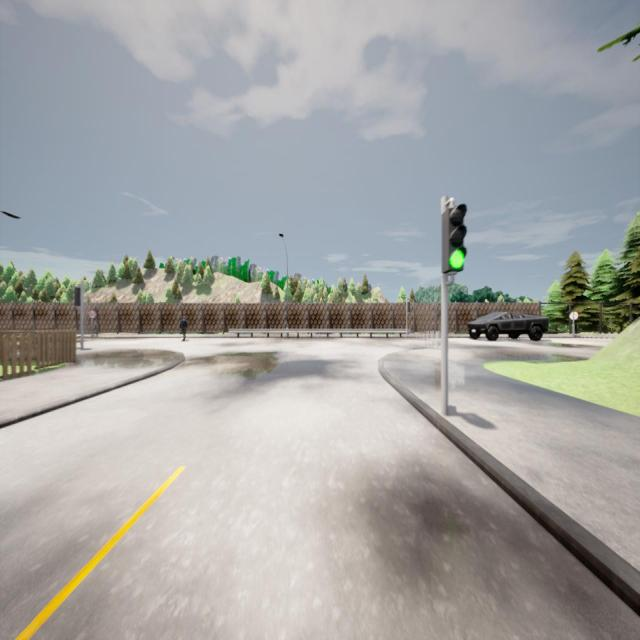Pedestrian: (179, 315, 188, 342)
Traffic_Signs: (569, 311, 579, 320), (88, 310, 96, 318)
Vehicle: (468, 311, 548, 340)
traffic_light: (442, 198, 466, 274), (74, 287, 82, 307), (406, 301, 411, 312)
